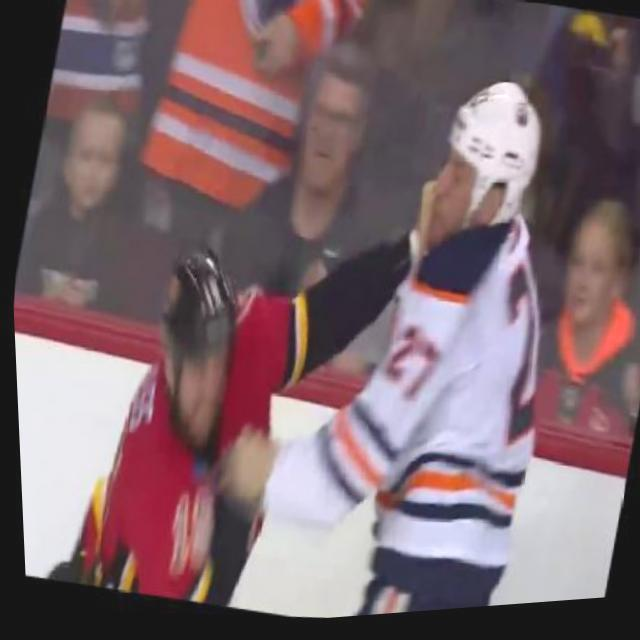fight: (37, 0, 616, 638)
